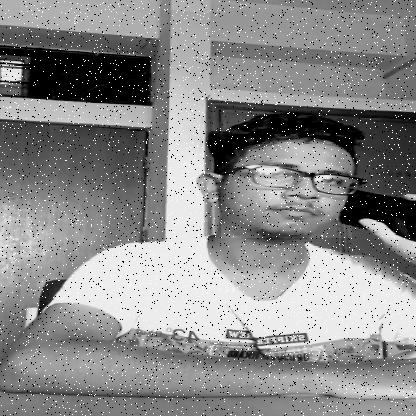Normal: (221, 130, 352, 238)
